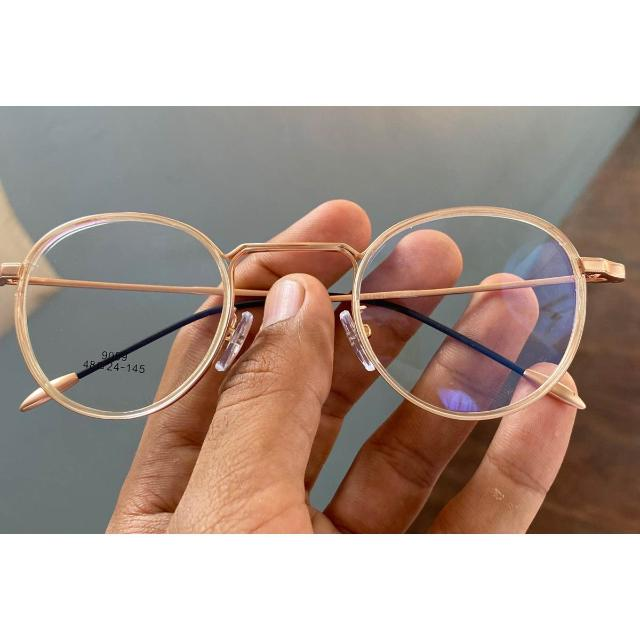glasses: (4, 204, 617, 430)
